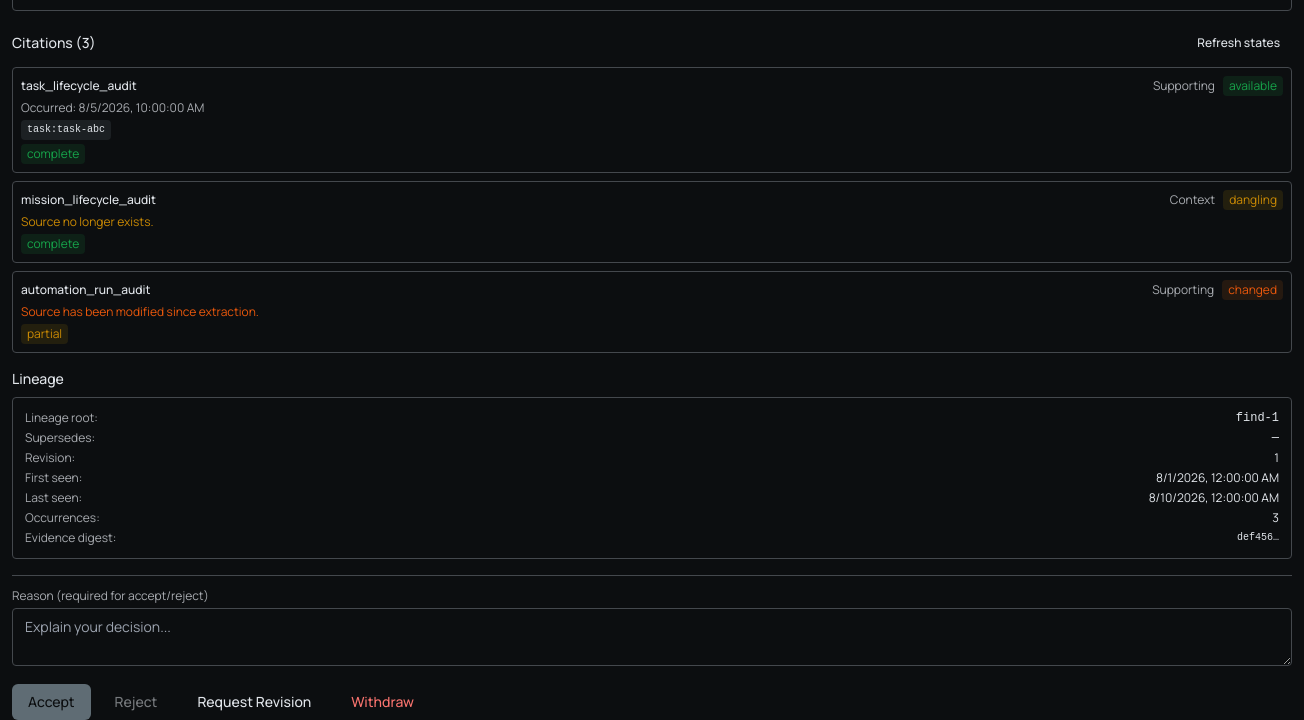
Test: ExtractionFindingDetail › surfaces 409 conflict with a visible banner — not silent overwrite
(page scrolled)
# Enter reason — use fireEvent for proper React state update
Type "Looks good" into the text box named "Decision reason". click: {"x": 652, "y": 637}
box: 12,608 -> 1292,666
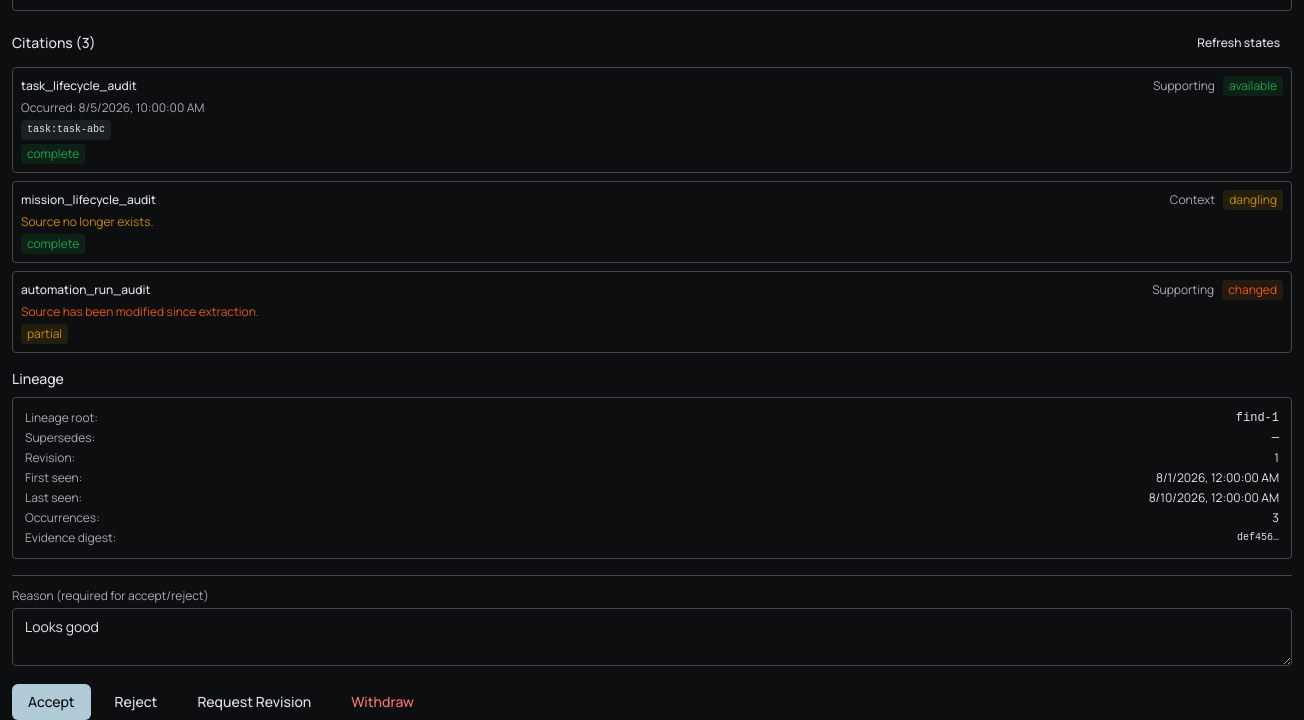
# Click accept
Click the button with aria-label "Accept finding". click: {"x": 51, "y": 702}
box: 12,684 -> 91,719
(page scrolled)
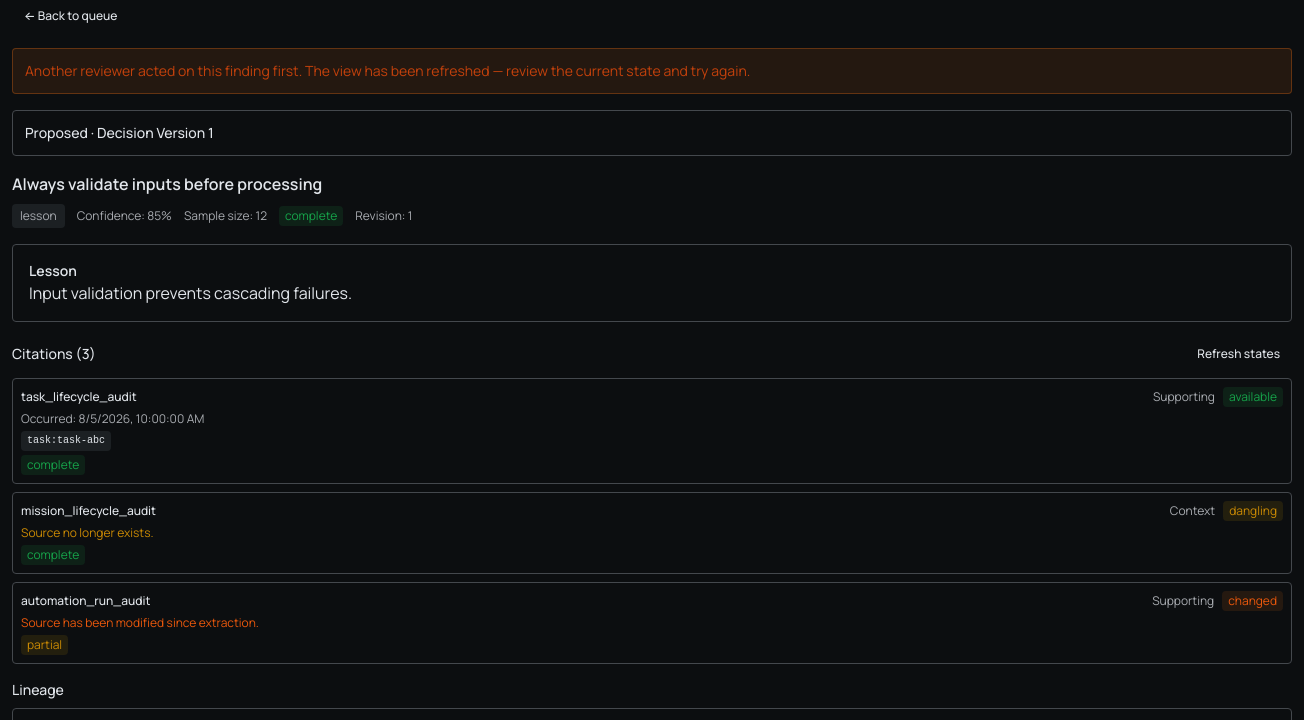
expect the element with test id "conflict-banner" is shown: met, box 12,48 -> 1292,94
expect the element with test id "conflict-banner" shows "Another reviewer acted on this finding first": met, box 25,61 -> 750,80
